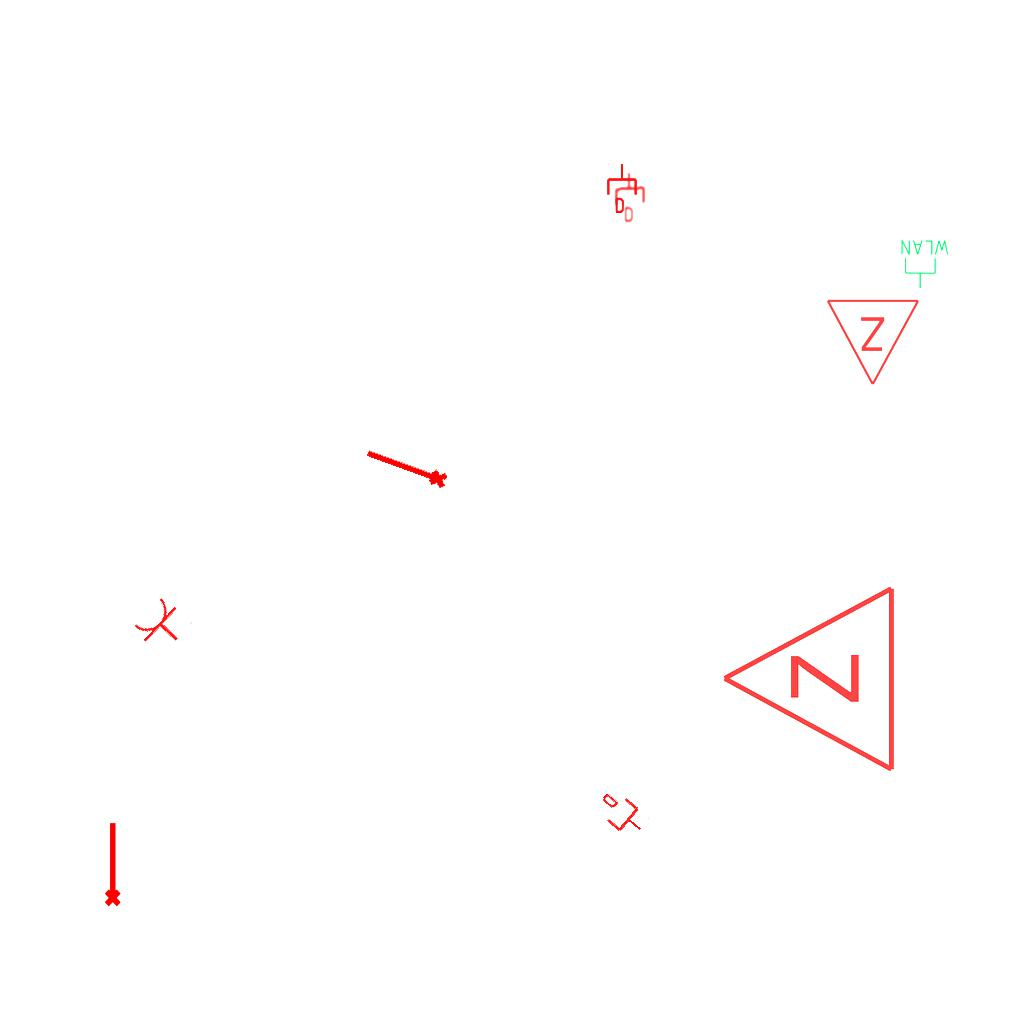ASR_Ansaugoeffnung: (360, 442, 452, 495), (100, 820, 123, 908)
Datenanschluss_einfach: (591, 784, 653, 844), (611, 171, 649, 223), (605, 163, 639, 213)
Schukosteckdose_einfach: (129, 592, 196, 658)
WLAN: (899, 238, 951, 290)
Zimmersignalleuchte: (709, 583, 909, 779), (825, 292, 923, 392)
